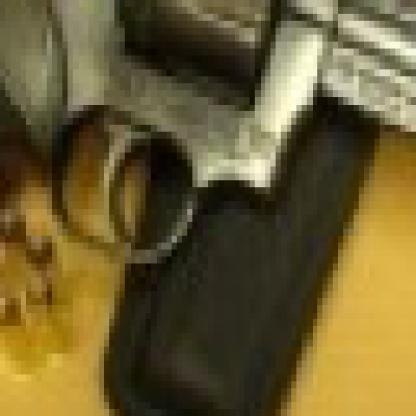gun: (0, 0, 411, 340)
